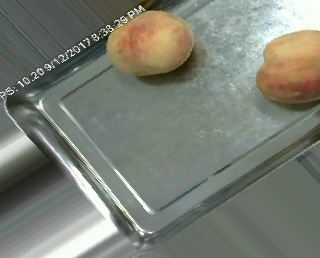Peach: (106, 9, 194, 76), (256, 29, 318, 104)
